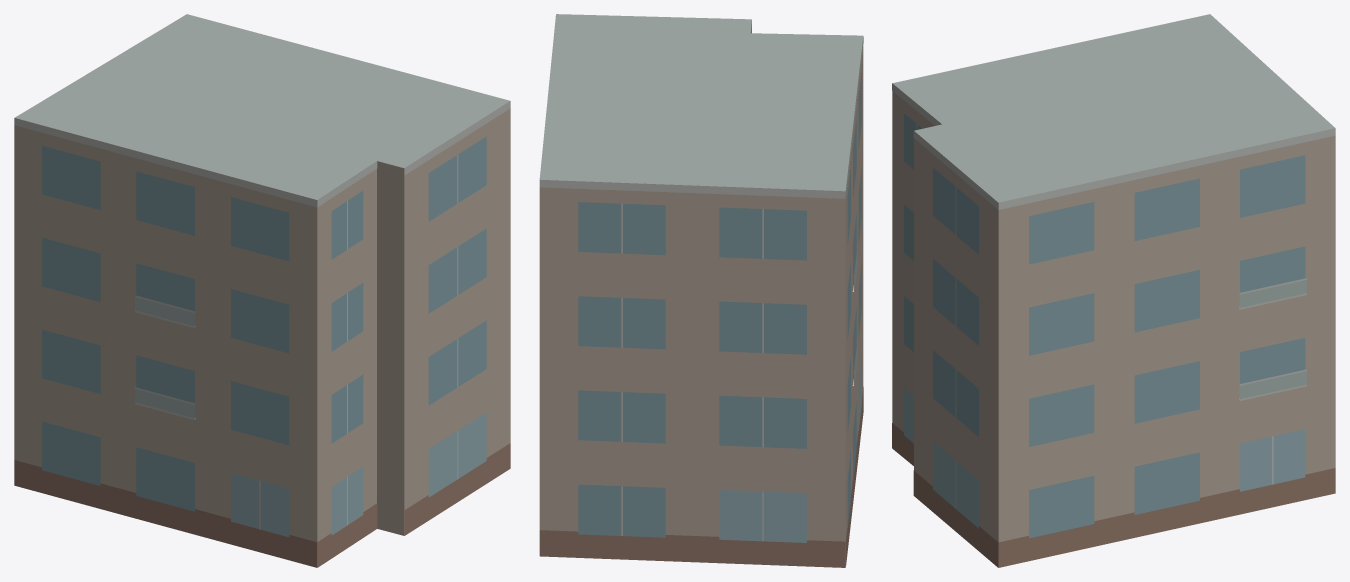
Rendered from survey-upis-32816339.glb.
The picture shows the model from 3 angles, left to right: view 1: azimuth 30°, elevation 25°; view 2: azimuth 150°, elevation 25°; view 3: azimuth 270°, elevation 25°; orthographic projection. The views are drawn at different scales.
Parts seen in each view (by area): view 1: survey-upis-32816339.tmp; view 2: survey-upis-32816339.tmp; view 3: survey-upis-32816339.tmp.
Boxes of the visible parts, x1,y1,x2,y2 form: survey-upis-32816339.tmp: (14,14,510,567); survey-upis-32816339.tmp: (539,14,863,567); survey-upis-32816339.tmp: (892,14,1335,567).
Bounding box in the file's own units: 13.48 × 12.15 × 13.38.
